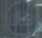bike lane: (3, 1, 40, 37)
